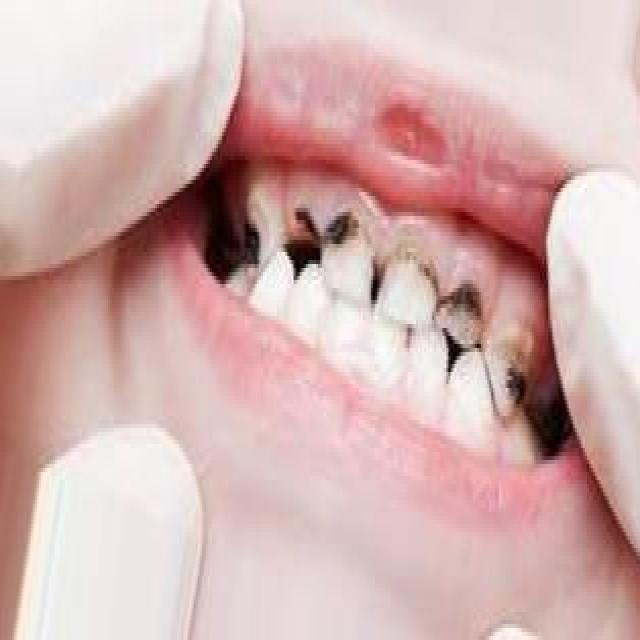caries: (386, 232, 436, 332), (295, 189, 371, 252), (442, 274, 486, 355), (497, 322, 533, 418), (241, 185, 281, 261)
